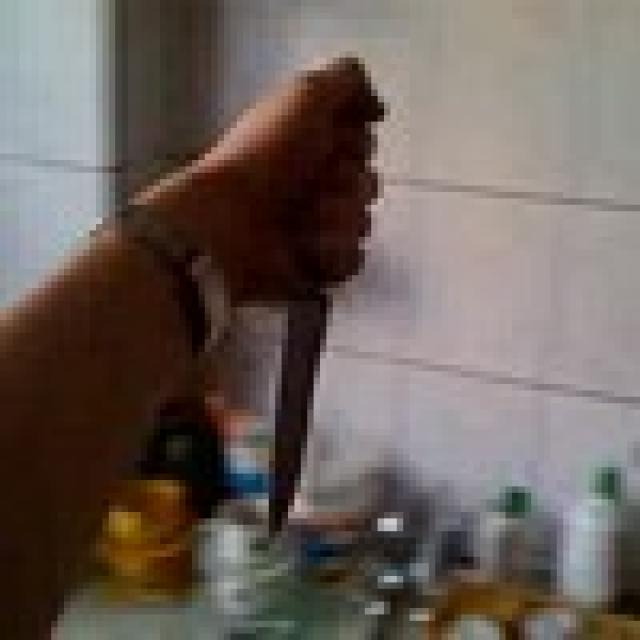Knife: (256, 70, 403, 544)
